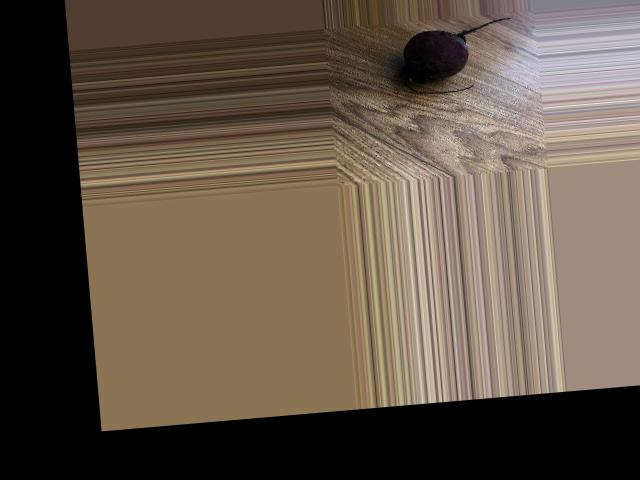beet: (397, 17, 516, 96)
